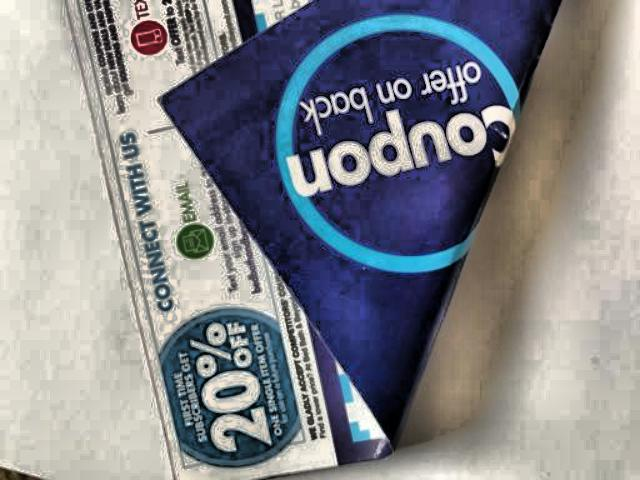Paper: (44, 0, 570, 480)
